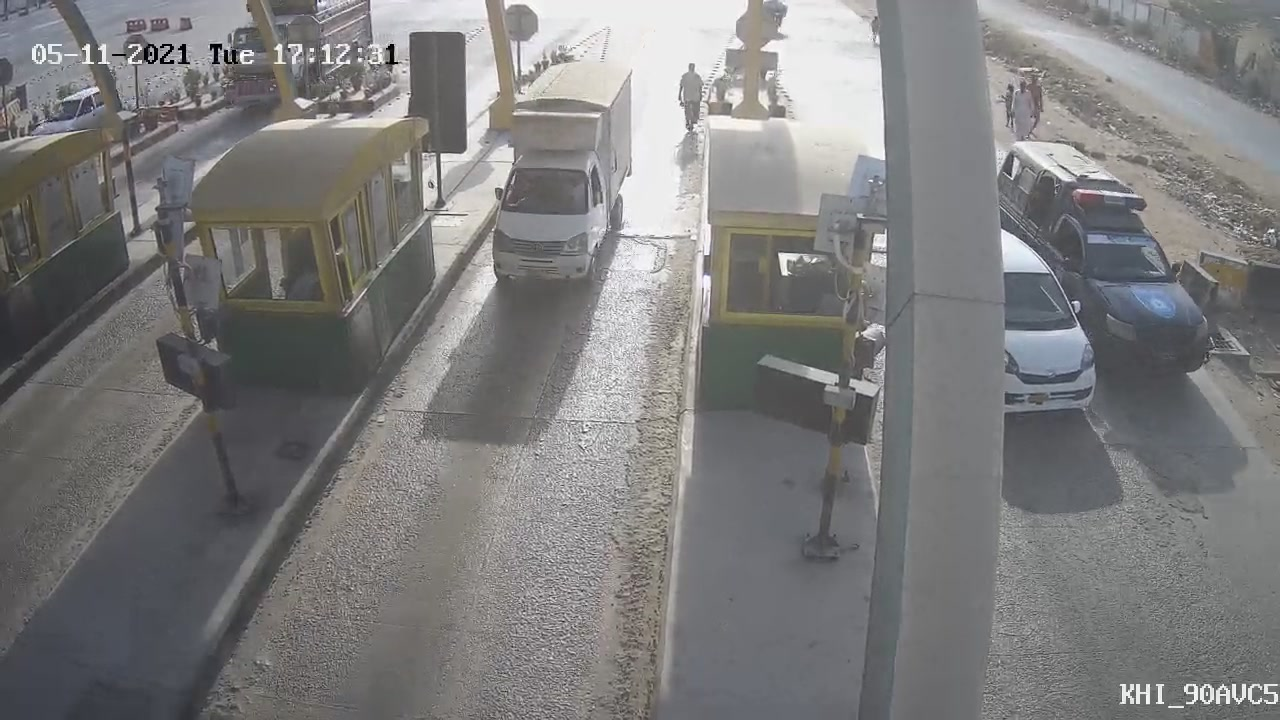F2: (457, 36, 663, 313)
